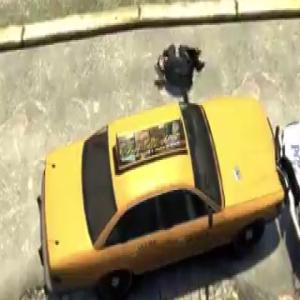minor: (30, 75, 300, 300)
